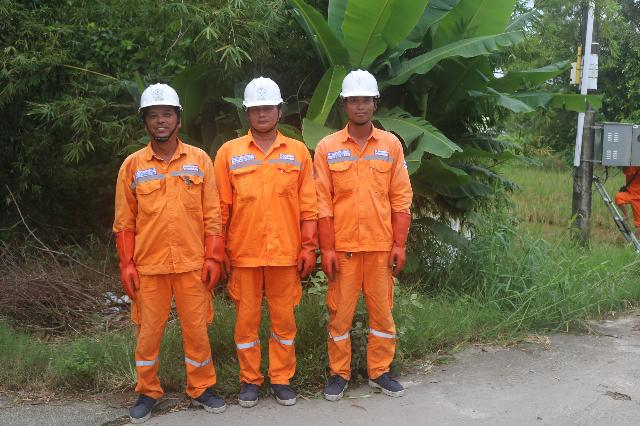gloves: (308, 215, 352, 282), (379, 208, 422, 273), (109, 227, 146, 298), (291, 211, 319, 276), (207, 230, 238, 280), (202, 231, 221, 290)
helmet: (324, 59, 380, 104), (235, 73, 285, 113), (135, 83, 187, 109)
shoes: (187, 378, 228, 417), (127, 383, 162, 426), (362, 370, 406, 403), (316, 368, 352, 408), (265, 374, 301, 410), (231, 377, 261, 411)
